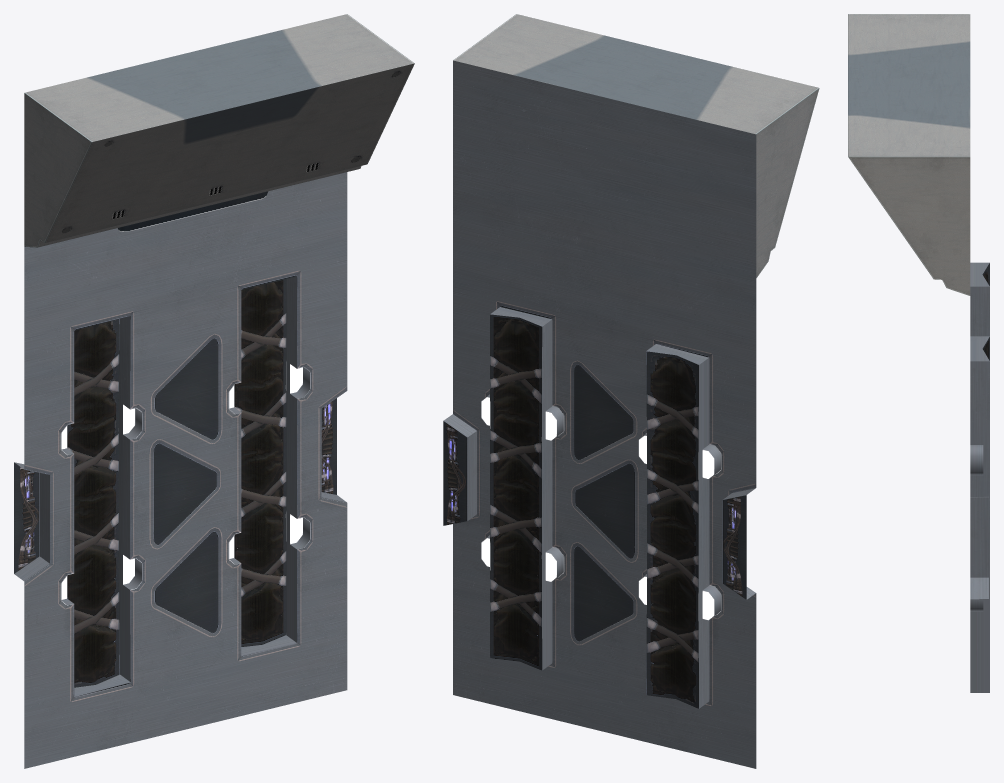
The model's file is DS_SM017_Scifi_Room_Wall2M_01.fbx.
3 renders of one model, left to right at view 1: azimuth 30°, elevation 25°; view 2: azimuth 150°, elevation 25°; view 3: azimuth 270°, elevation 25°, orthographic. The views are drawn at different scales.
Parts seen in each view (by area): view 1: DS_SM017_Scifi_Room_Wall2M_01_LP.003; view 2: DS_SM017_Scifi_Room_Wall2M_01_LP.003; view 3: DS_SM017_Scifi_Room_Wall2M_01_LP.003.
Part boxes in pixels (<box>): DS_SM017_Scifi_Room_Wall2M_01_LP.003: <box>14,14,414,768</box>; DS_SM017_Scifi_Room_Wall2M_01_LP.003: <box>443,14,819,768</box>; DS_SM017_Scifi_Room_Wall2M_01_LP.003: <box>848,14,989,692</box>.
Size of the model in its own units: 400 by 800 by 168.
